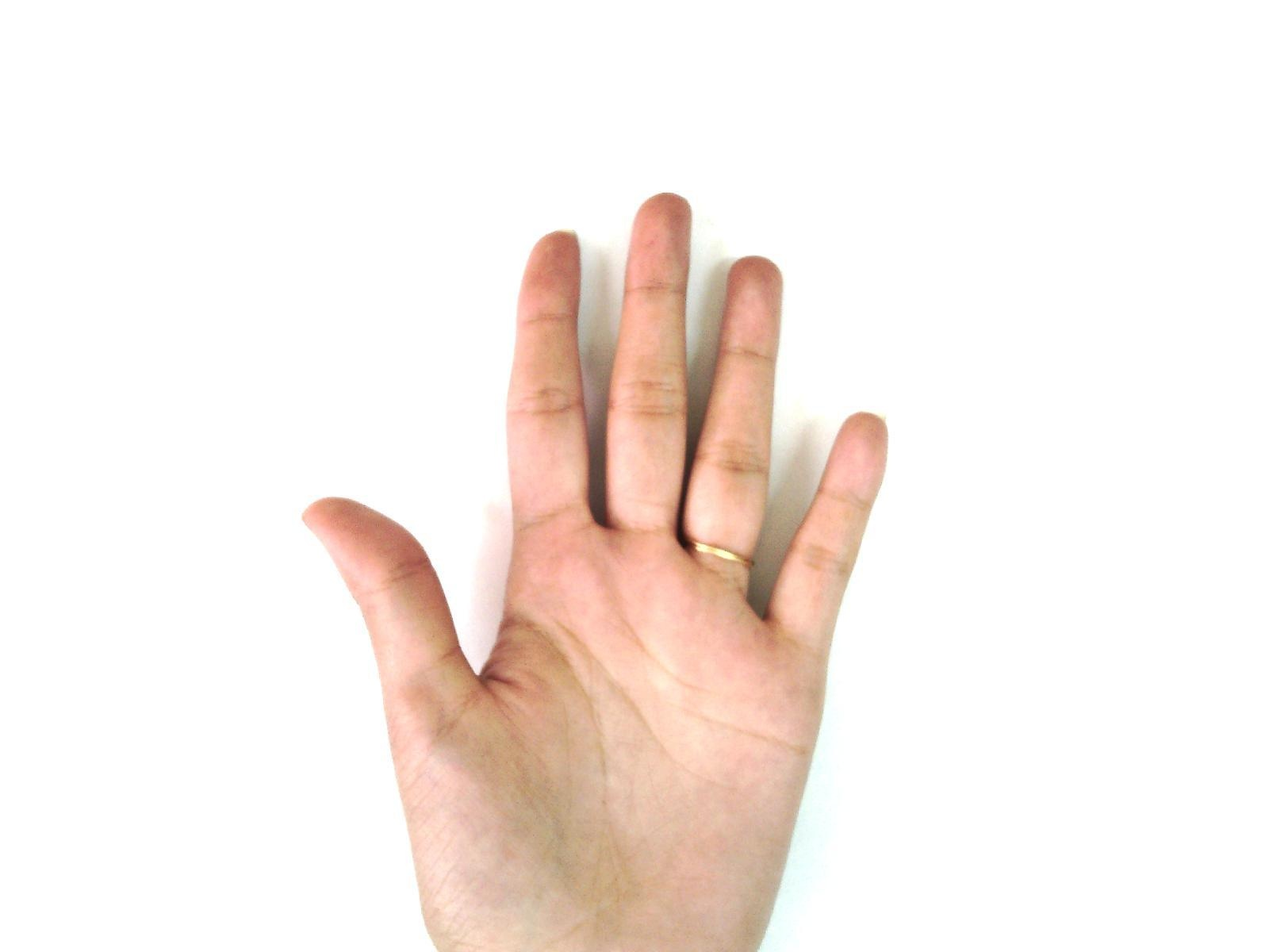open_palm: (301, 191, 891, 951)
